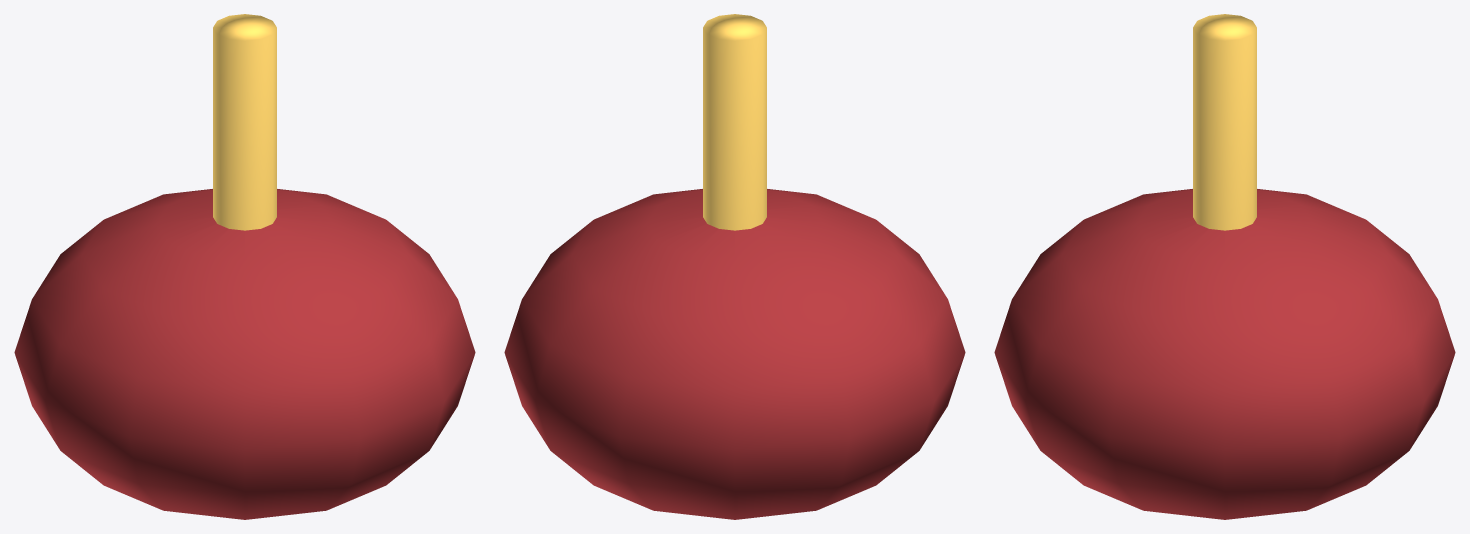
Rendered from elin_toy.glb.
The picture shows the model from 3 angles, left to right: view 1: azimuth 30°, elevation 25°; view 2: azimuth 150°, elevation 25°; view 3: azimuth 270°, elevation 25°; orthographic projection.
Visible parts, largest first — view 1: toy, stem; view 2: toy, stem; view 3: toy, stem.
Boxes of the visible parts, <box> form: toy: <box>14,189,475,519</box>; stem: <box>213,14,276,230</box>; toy: <box>504,189,965,519</box>; stem: <box>703,14,766,230</box>; toy: <box>994,189,1455,519</box>; stem: <box>1193,14,1256,230</box>.
Size of the model in its own units: 0.36 by 0.4 by 0.36.
